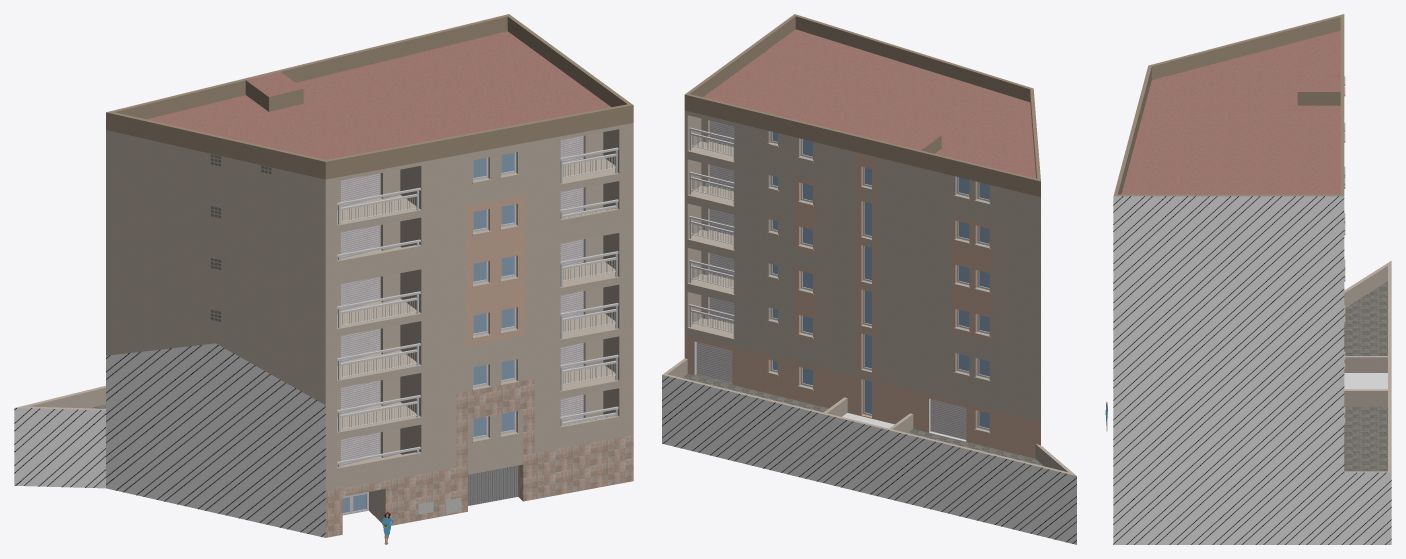
The model's file is blender_convert_ARLEQUIN_CAGNES.glb.
The picture shows the model from 3 angles, left to right: view 1: azimuth 30°, elevation 25°; view 2: azimuth 150°, elevation 25°; view 3: azimuth 270°, elevation 25°; orthographic projection. The views are drawn at different scales.
Parts seen in each view (by area): view 1: _(Loose Entity); view 2: _(Loose Entity); view 3: _(Loose Entity).
Part boxes in pixels (box(x1,y1,x2,y2)): _(Loose Entity): box(14, 14, 633, 544); _(Loose Entity): box(662, 14, 1076, 544); _(Loose Entity): box(1105, 14, 1391, 544).
Bounding box in the file's own units: 26.54 × 20.33 × 15.13.
Materials: 31 (12 with a texture image).
